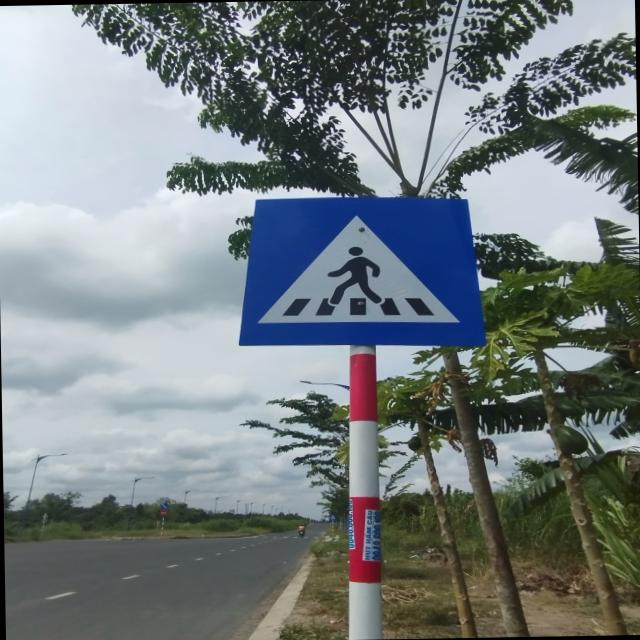Giao_Nhau_Duong_Uu_Tien: (234, 195, 486, 349)
